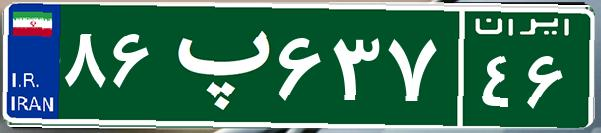3: (330, 28, 385, 110)
4: (475, 38, 525, 113)
6: (273, 28, 330, 110), (110, 28, 158, 105), (525, 38, 570, 115)
7: (385, 28, 445, 110)
8: (57, 26, 110, 107)
پ: (158, 15, 273, 115)
